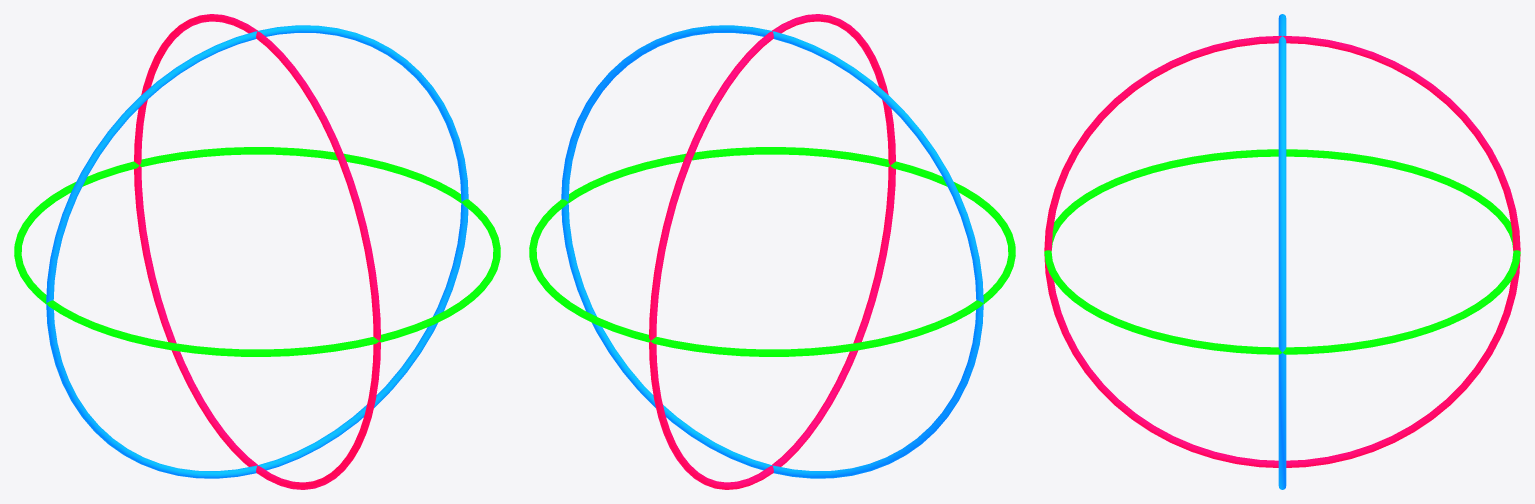
Rendered from gizmo_rotate.glb.
3 renders of one model, left to right at view 1: azimuth 30°, elevation 25°; view 2: azimuth 150°, elevation 25°; view 3: azimuth 270°, elevation 25°, orthographic. The views are drawn at different scales.
Visible parts, largest first — view 1: rotate_z, rotate_x, rotate_y; view 2: rotate_z, rotate_x, rotate_y; view 3: rotate_x, rotate_y, rotate_z.
Part boxes in pixels (bbox=[...]): rotate_z: bbox=[46, 25, 468, 478]; rotate_x: bbox=[134, 14, 380, 489]; rotate_y: bbox=[14, 147, 500, 356]; rotate_z: bbox=[561, 25, 983, 478]; rotate_x: bbox=[649, 14, 895, 489]; rotate_y: bbox=[529, 147, 1015, 356]; rotate_x: bbox=[1044, 36, 1520, 467]; rotate_y: bbox=[1044, 149, 1520, 354]; rotate_z: bbox=[1278, 14, 1286, 489].
Bounding box in the file's own units: 1.93 × 1.93 × 1.93.
